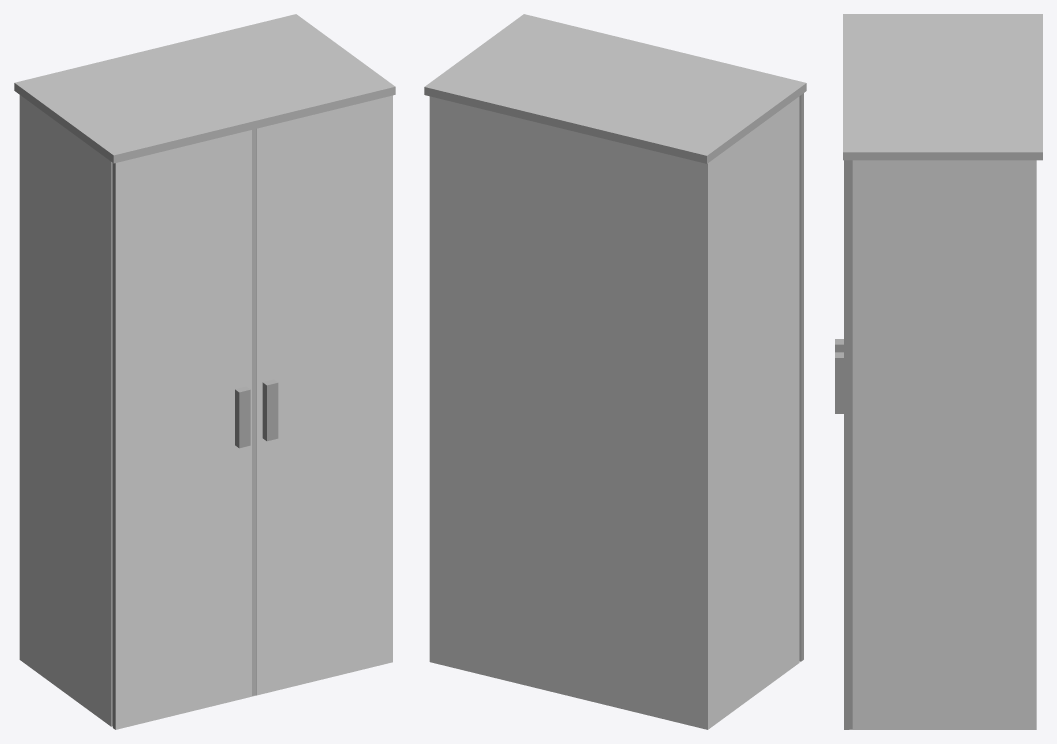
Rendered from wardrobe_01.glb.
3 views of the same model, side by side, from view 1: azimuth 30°, elevation 25°; view 2: azimuth 150°, elevation 25°; view 3: azimuth 270°, elevation 25° (orthographic).
Parts seen in each view (by area): view 1: Cube.001; view 2: Cube.001; view 3: Cube.001.
Boxes of the visible parts, x1=… form: Cube.001: x1=14, y1=14, x2=395, y2=729; Cube.001: x1=424, y1=14, x2=806, y2=729; Cube.001: x1=835, y1=14, x2=1042, y2=729.
Size of the model in its own units: 0.9894 by 1.93 by 0.628.
1 material, 1 textured.
